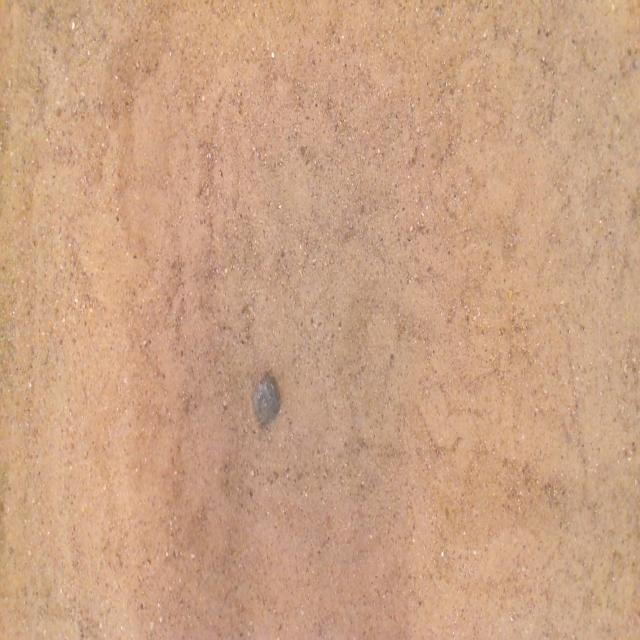rock: (252, 375, 280, 425)
